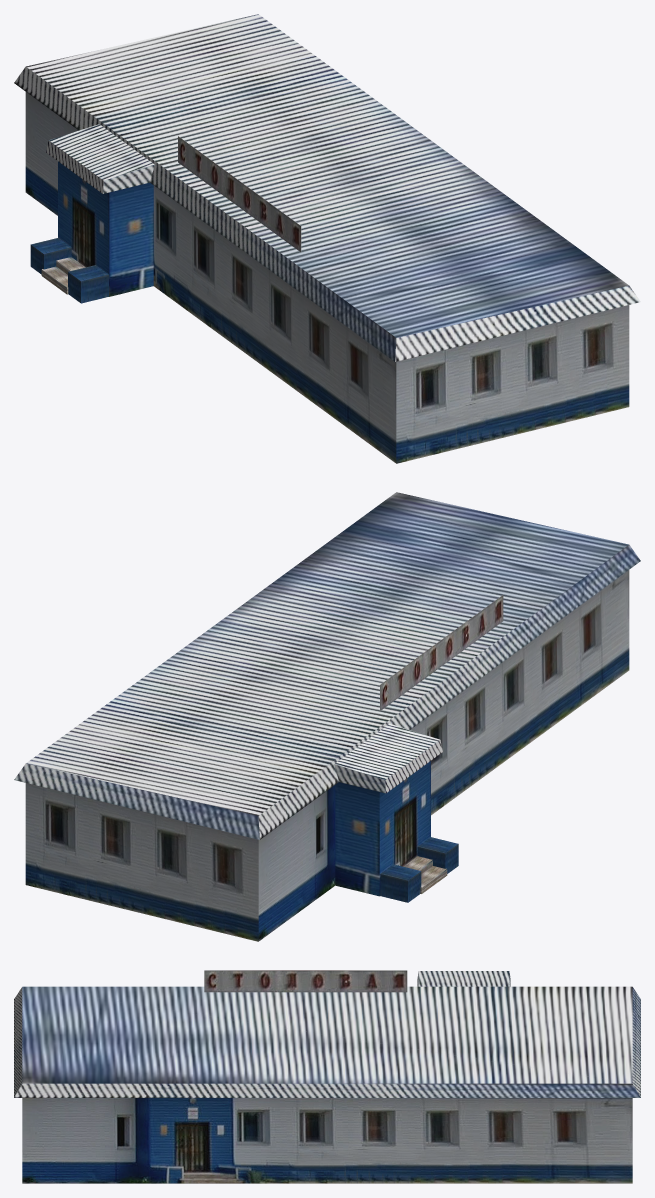
The model's file is r402_stolovaya_malinovka.FBX.
3 renders of one model, top to bottom at view 1: azimuth 30°, elevation 25°; view 2: azimuth 150°, elevation 25°; view 3: azimuth 270°, elevation 25°, orthographic. The views are drawn at different scales.
Parts seen in each view (by area): view 1: r402_stolovaya_malinovka; view 2: r402_stolovaya_malinovka; view 3: r402_stolovaya_malinovka.
Part boxes in pixels (left/top/right/bottom): r402_stolovaya_malinovka: left=14, top=14, right=640, bottom=463; r402_stolovaya_malinovka: left=14, top=492, right=640, bottom=941; r402_stolovaya_malinovka: left=14, top=970, right=640, bottom=1183.
Size of the model in its own units: 1069 by 2254 by 499.
